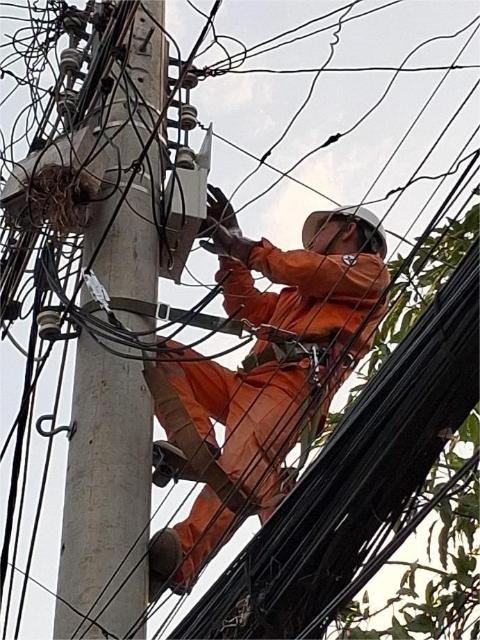gloves: (199, 184, 249, 276), (193, 213, 271, 266)
harness: (227, 317, 362, 398), (133, 431, 223, 496), (139, 514, 197, 608)
helmet: (278, 185, 412, 269)
